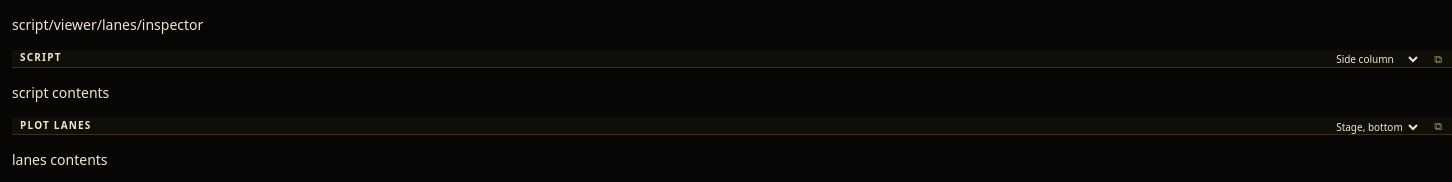
the strip on a section › moves a section to another place from its menu
Check: the text with test id "where" reads "script/viewer/lanes/inspector", box [12,15,203,34]
Select "Stage, bottom" in the dropdown named "Move Script" at (1376, 59), box [1329,50,1422,68]
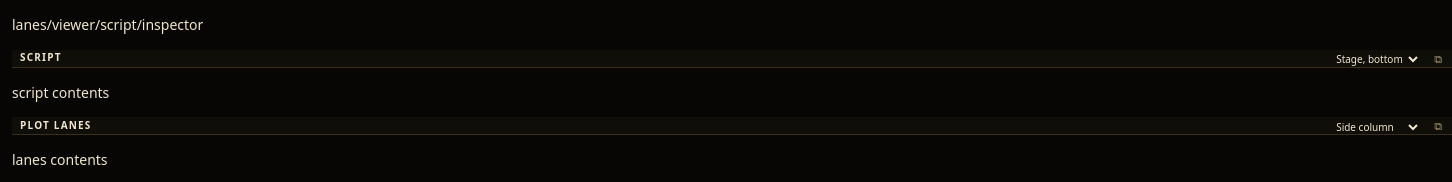
Check: the text with test id "where" reads "lanes/viewer/script/inspector", box [12,15,203,34]
